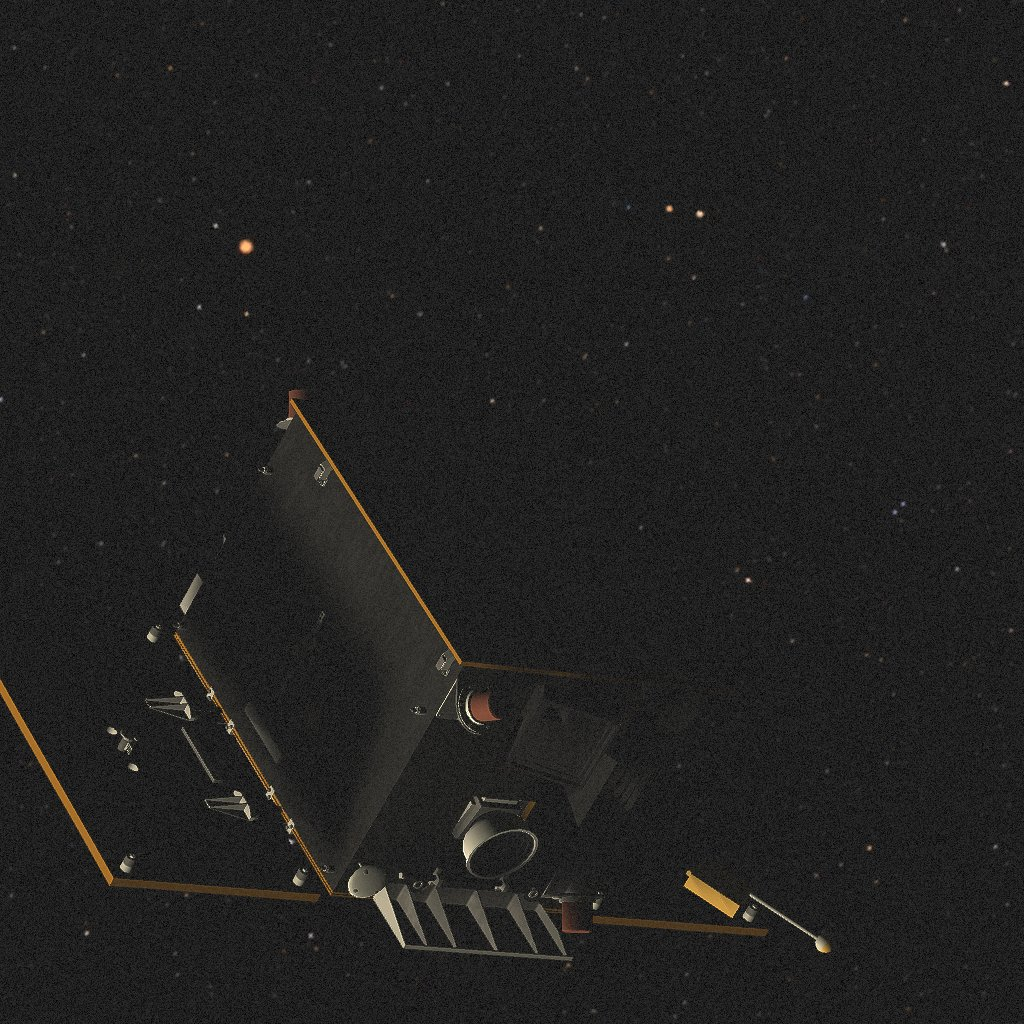proba_2: (27, 377, 790, 980)
